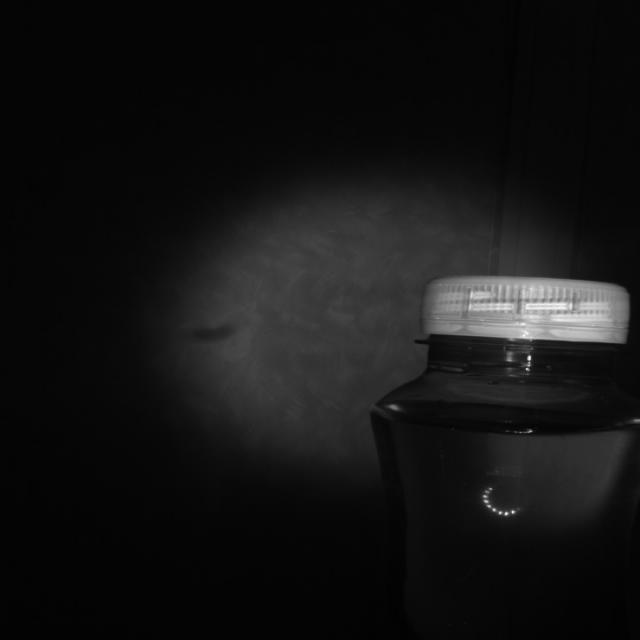Good: (423, 274, 632, 348)
